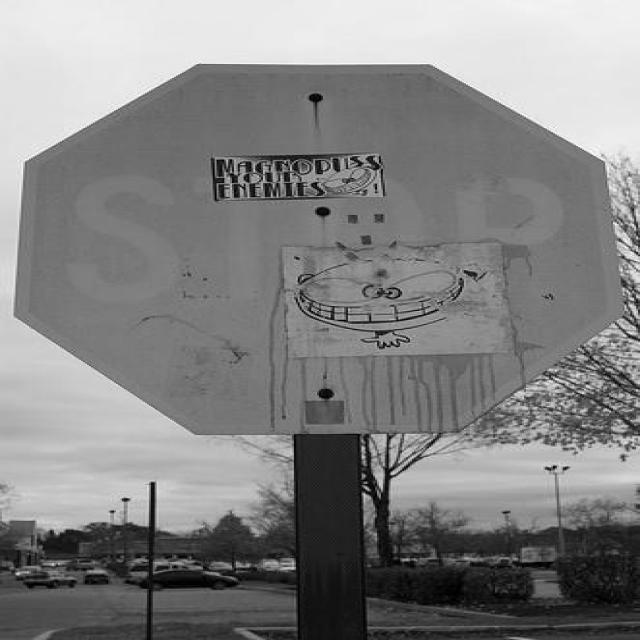vehicle: (137, 570, 239, 592), (126, 562, 195, 585), (23, 571, 77, 589), (81, 568, 111, 584), (64, 559, 98, 571), (15, 565, 43, 579), (487, 557, 513, 569), (261, 563, 296, 571), (207, 561, 231, 571), (445, 559, 473, 565), (418, 560, 438, 567)
